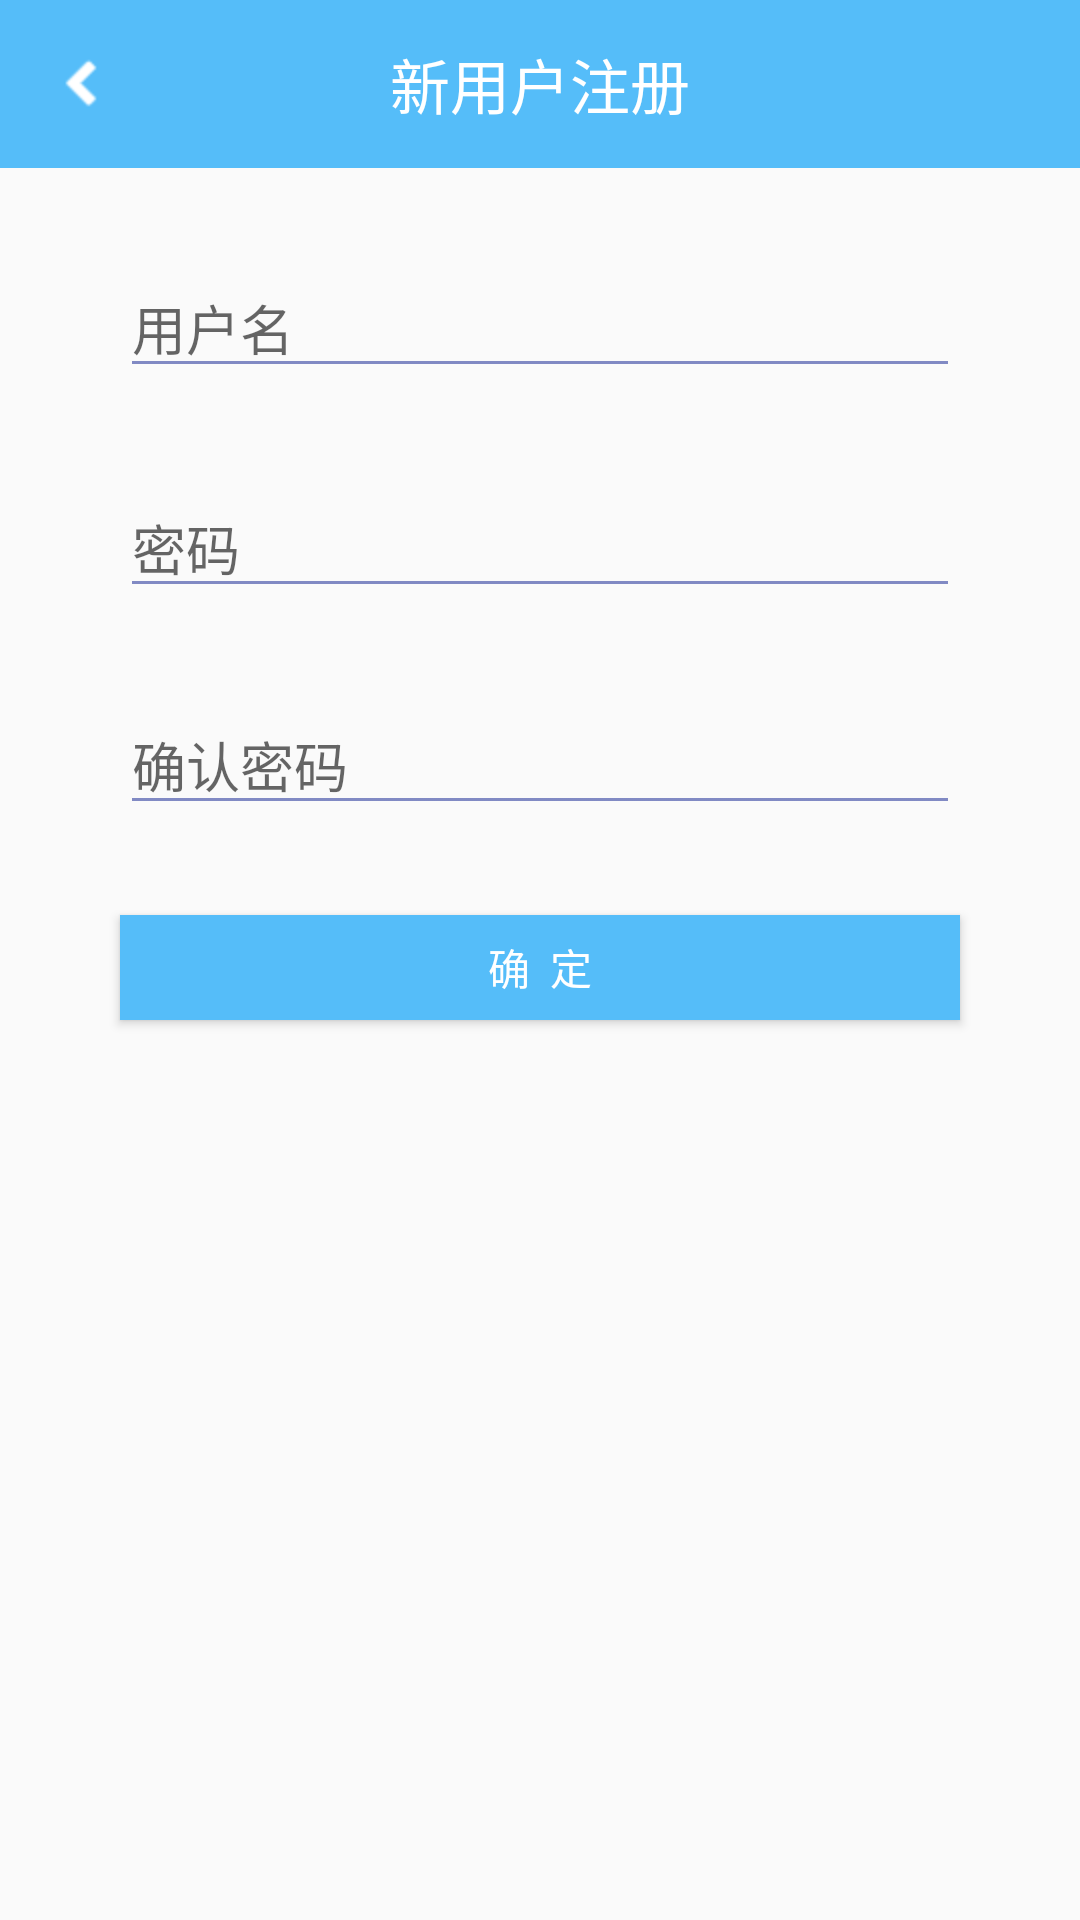

Icon click points for this 1080×1920 phone screenshot, format point (x, y):
fanhui: point (81, 83)
